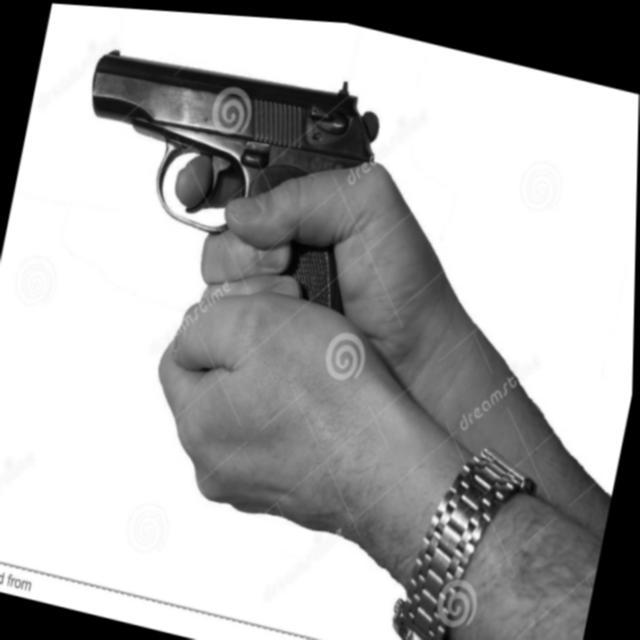weapon: (12, 2, 414, 533)
